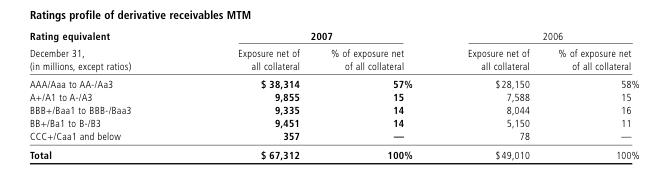table: (28, 29, 638, 160)
table column: (28, 29, 183, 160), (183, 29, 314, 160), (314, 29, 439, 160), (439, 29, 543, 160), (543, 29, 638, 160)
table column header: (28, 29, 638, 74)
table row: (28, 43, 638, 74), (28, 74, 638, 90), (28, 129, 638, 145), (28, 145, 638, 160), (28, 29, 638, 43), (28, 90, 638, 103), (28, 103, 638, 116), (28, 116, 638, 129)
table spanning cell: (28, 29, 183, 74), (183, 29, 439, 43), (439, 29, 638, 43)
